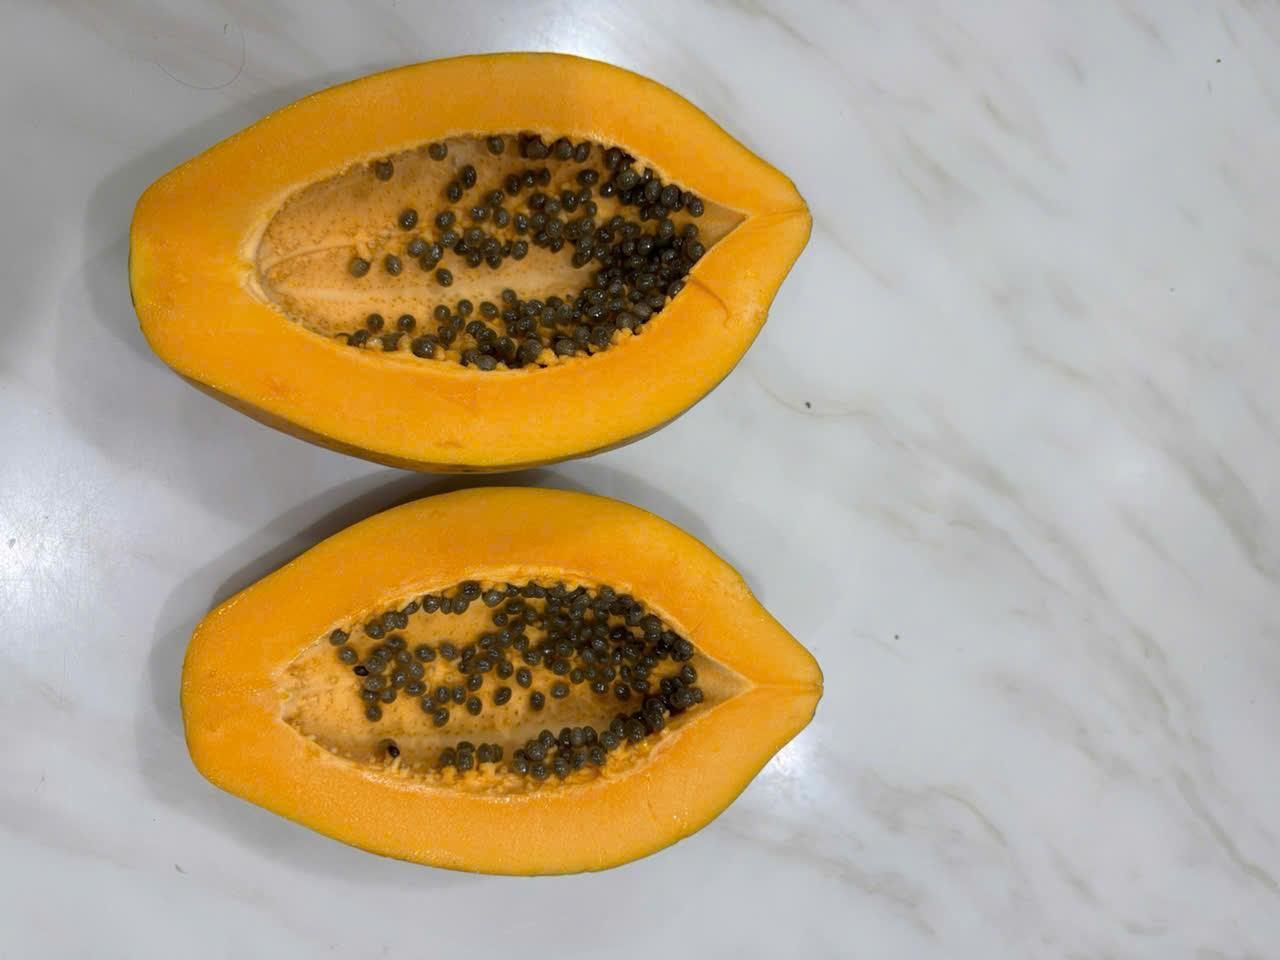papaya: (100, 31, 864, 479), (112, 470, 876, 904)
